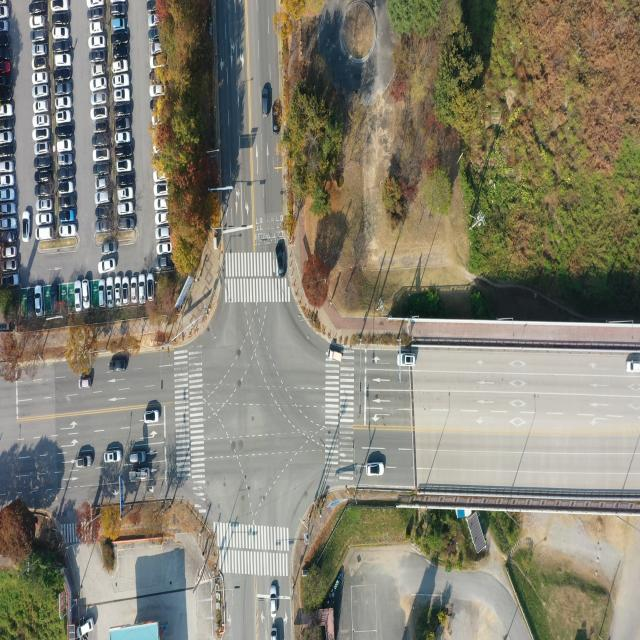car: (78, 617, 96, 640), (278, 243, 286, 280), (22, 212, 31, 242), (274, 102, 282, 134), (0, 144, 15, 160), (113, 90, 130, 104), (94, 148, 111, 162), (98, 259, 115, 273), (264, 88, 272, 117), (112, 74, 128, 88), (33, 86, 49, 100), (36, 228, 52, 242), (112, 32, 128, 46), (3, 274, 19, 288), (0, 117, 16, 131), (368, 463, 385, 476), (0, 218, 17, 231), (111, 61, 128, 74), (56, 126, 73, 139), (109, 360, 127, 372), (397, 354, 415, 366), (59, 181, 74, 195), (271, 586, 278, 616), (118, 120, 133, 134), (0, 204, 16, 217), (57, 111, 73, 124), (56, 55, 72, 68), (58, 140, 74, 153), (35, 158, 51, 171), (89, 7, 105, 20), (60, 224, 77, 236), (53, 0, 70, 12), (115, 146, 132, 158), (27, 288, 34, 317), (83, 280, 90, 308), (150, 57, 164, 71), (55, 28, 70, 41), (0, 175, 15, 188), (117, 187, 132, 200), (115, 117, 130, 130), (158, 256, 173, 269), (94, 134, 109, 147), (60, 212, 76, 224), (118, 218, 134, 230), (56, 86, 72, 98), (57, 98, 73, 110), (93, 108, 109, 120), (110, 3, 126, 15), (30, 2, 46, 14), (130, 452, 146, 464), (115, 104, 131, 116), (56, 70, 72, 82), (99, 280, 106, 307), (139, 276, 146, 303), (105, 452, 122, 463), (75, 457, 92, 468), (53, 41, 70, 52), (0, 105, 13, 119), (31, 15, 45, 28), (627, 360, 640, 374), (92, 36, 106, 49), (35, 142, 49, 155), (97, 280, 104, 306), (107, 280, 114, 306), (116, 162, 131, 174), (0, 189, 15, 201), (96, 192, 111, 204), (33, 72, 48, 84), (115, 133, 130, 145), (34, 130, 49, 142), (145, 412, 160, 424), (37, 201, 52, 213), (0, 163, 15, 175), (158, 244, 173, 256), (61, 198, 76, 210), (92, 78, 107, 90), (0, 60, 12, 75), (93, 94, 108, 106), (34, 286, 40, 316), (149, 68, 164, 80), (36, 214, 52, 225), (34, 197, 50, 208), (54, 13, 70, 24), (75, 282, 81, 311), (0, 133, 13, 146), (0, 75, 13, 88), (150, 84, 163, 97), (96, 220, 110, 232), (59, 156, 73, 168), (118, 204, 132, 216), (111, 20, 125, 32), (32, 31, 46, 43), (35, 185, 49, 197), (91, 23, 105, 35), (32, 117, 46, 129), (102, 243, 116, 255), (35, 172, 49, 184), (97, 207, 111, 219), (118, 173, 132, 185), (0, 46, 12, 60), (54, 284, 60, 311), (148, 275, 154, 302), (116, 278, 122, 305), (157, 230, 170, 242), (157, 213, 169, 226), (156, 184, 169, 196), (3, 247, 16, 259), (92, 52, 105, 64), (122, 278, 128, 304), (94, 120, 107, 132), (34, 115, 48, 126), (32, 45, 46, 56), (34, 102, 48, 113), (95, 165, 109, 176), (33, 59, 47, 70), (132, 278, 138, 303), (157, 200, 169, 212), (93, 65, 105, 77), (58, 169, 74, 178), (4, 262, 17, 273), (1, 86, 11, 100), (0, 33, 9, 48), (79, 379, 91, 390), (150, 42, 161, 54), (146, 0, 157, 12), (0, 6, 9, 20), (96, 179, 108, 189), (148, 14, 158, 26), (148, 29, 158, 41), (156, 172, 168, 182), (0, 21, 9, 33), (88, 0, 103, 7)
small_truck: (130, 468, 151, 481), (0, 228, 18, 243), (328, 350, 344, 363), (272, 626, 278, 640)
